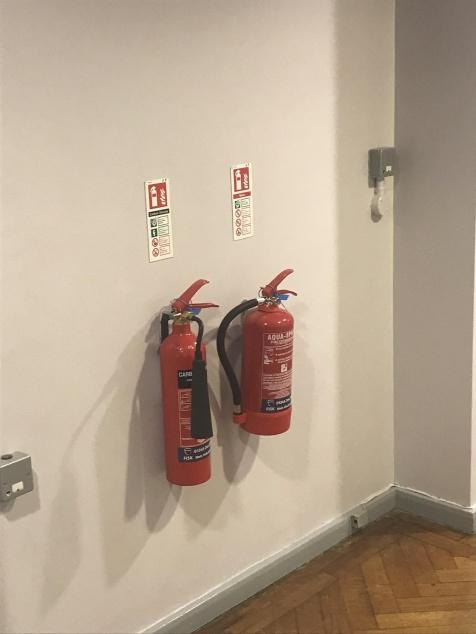APAR: (157, 277, 219, 486), (237, 267, 297, 435)
